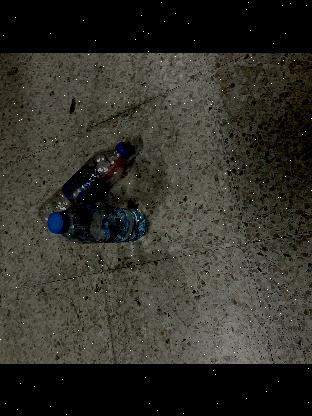Plastic Bottle: (38, 142, 132, 228), (47, 202, 147, 244)
